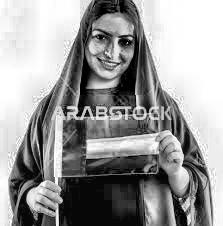happy: (81, 1, 143, 96)
